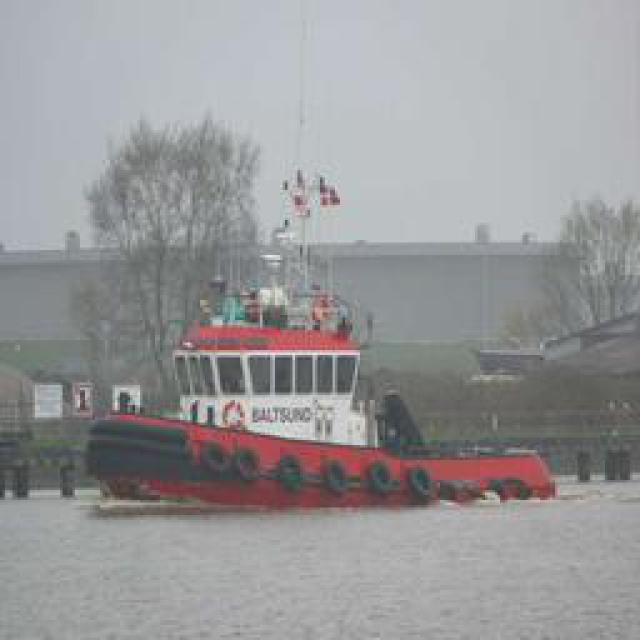Ship: (90, 219, 553, 509)
